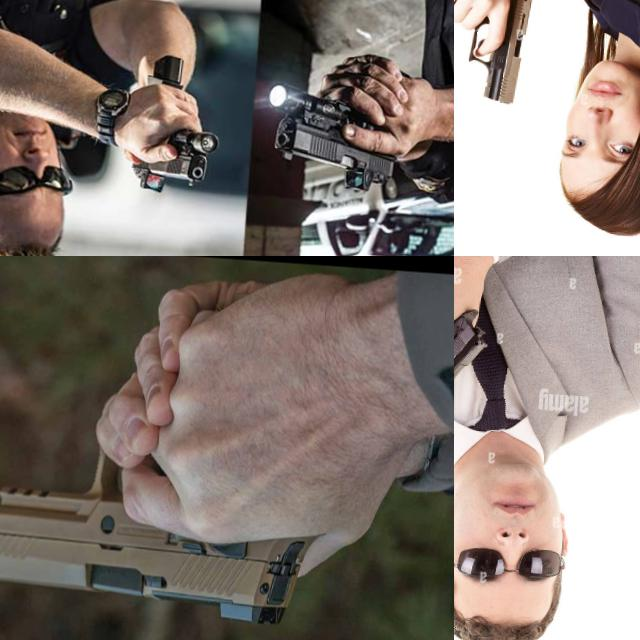handgun: (0, 394, 337, 634), (266, 59, 414, 198), (126, 47, 227, 198), (454, 288, 517, 454), (454, 0, 543, 110)
